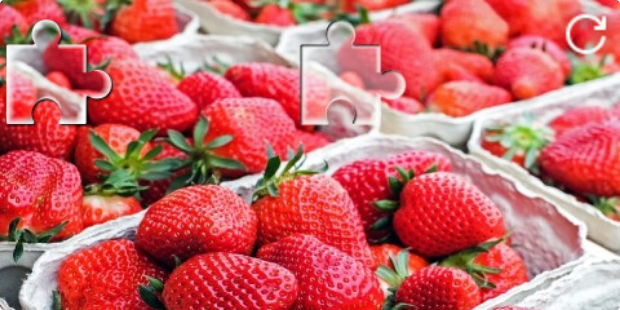target: (301, 20, 405, 125)
